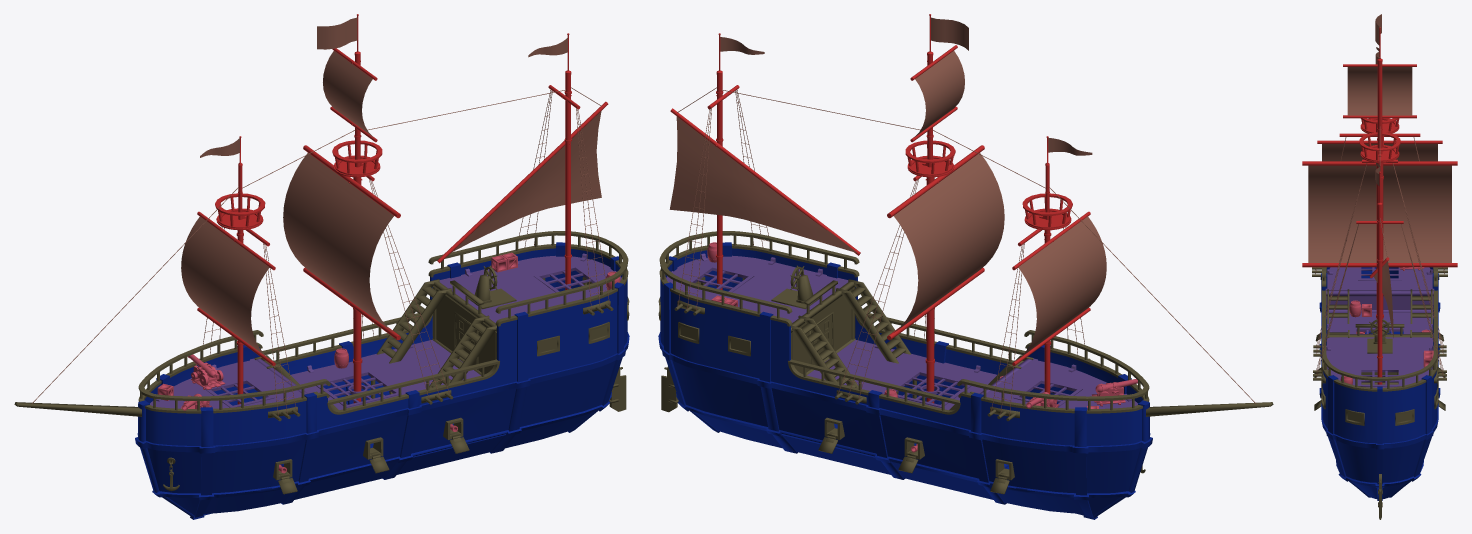
Rendered from Ship_Scene.fbx.
3 renders of one model, left to right at view 1: azimuth 30°, elevation 25°; view 2: azimuth 150°, elevation 25°; view 3: azimuth 270°, elevation 25°, orthographic. The views are drawn at different scales.
Parts seen in each view (by area): view 1: StylShip_Body, StylShip_SailMid1, StylShip_SailFront, StylShip_SailBack, StylShip_FloorBackTop, StylShip_FloorMid, StylShip_MastMid, StylShip_FencingBack, StylShip_StairsTop, StylShip_FencingFront, StylShip_FencingMid, StylShip_FloorFront (+14 smaller); view 2: StylShip_Body, StylShip_SailMid1, StylShip_SailBack, StylShip_SailFront, StylShip_FloorBackTop, StylShip_FloorMid, StylShip_FencingBack, StylShip_MastMid, StylShip_StairsTop, StylShip_FencingFront, StylShip_FencingMid, StylShip_FloorFront (+14 smaller); view 3: StylShip_SailMid1, StylShip_Body, StylShip_MastMid, StylShip_FloorBackTop, StylShip_FloorFront, StylShip_SailMid2, StylShip_FencingBack, StylShip_FloorMid, StylShip_SailFront, StylShip_MastBack, StylShip_MastFront, StylShip_StairsSmall (+9 smaller).
Boxes of the visible parts, <box> form: StylShip_Body: <box>135,242,629,519</box>; StylShip_SailMid1: <box>283,153,393,331</box>; StylShip_SailFront: <box>181,216,269,359</box>; StylShip_SailBack: <box>451,111,601,252</box>; StylShip_FloorBackTop: <box>439,253,621,322</box>; StylShip_FloorMid: <box>291,340,480,409</box>; StylShip_MastMid: <box>303,14,400,403</box>; StylShip_FencingBack: <box>428,231,628,326</box>; StylShip_StairsTop: <box>377,279,496,388</box>; StylShip_FencingFront: <box>138,330,330,413</box>; StylShip_FencingMid: <box>262,313,499,414</box>; StylShip_FloorFront: <box>150,358,307,408</box>; StylShip_Body: <box>658,242,1152,519</box>; StylShip_SailMid1: <box>894,153,1004,332</box>; StylShip_SailBack: <box>669,116,856,252</box>; StylShip_SailFront: <box>1018,216,1106,359</box>; StylShip_FloorBackTop: <box>666,253,848,322</box>; StylShip_FloorMid: <box>807,340,996,409</box>; StylShip_FencingBack: <box>659,231,859,326</box>; StylShip_MastMid: <box>887,14,984,403</box>; StylShip_StairsTop: <box>791,279,910,388</box>; StylShip_FencingFront: <box>957,330,1149,413</box>; StylShip_FencingMid: <box>788,313,1025,414</box>; StylShip_FloorFront: <box>980,358,1137,408</box>; StylShip_SailMid1: <box>1308,165,1451,262</box>; StylShip_Body: <box>1319,267,1440,500</box>; StylShip_MastMid: <box>1302,27,1457,321</box>; StylShip_FloorBackTop: <box>1326,337,1433,387</box>; StylShip_FloorFront: <box>1325,267,1434,312</box>; StylShip_SailMid2: <box>1347,67,1412,115</box>; StylShip_FencingBack: <box>1322,317,1437,391</box>; StylShip_FloorMid: <box>1326,312,1433,334</box>; StylShip_SailFront: <box>1322,144,1437,161</box>; StylShip_MastBack: <box>1356,171,1403,384</box>; StylShip_MastFront: <box>1317,58,1442,332</box>; StylShip_StairsSmall: <box>1327,289,1432,323</box>.
Size of what is drawn, in the model's own units: 544 by 396 by 144.
